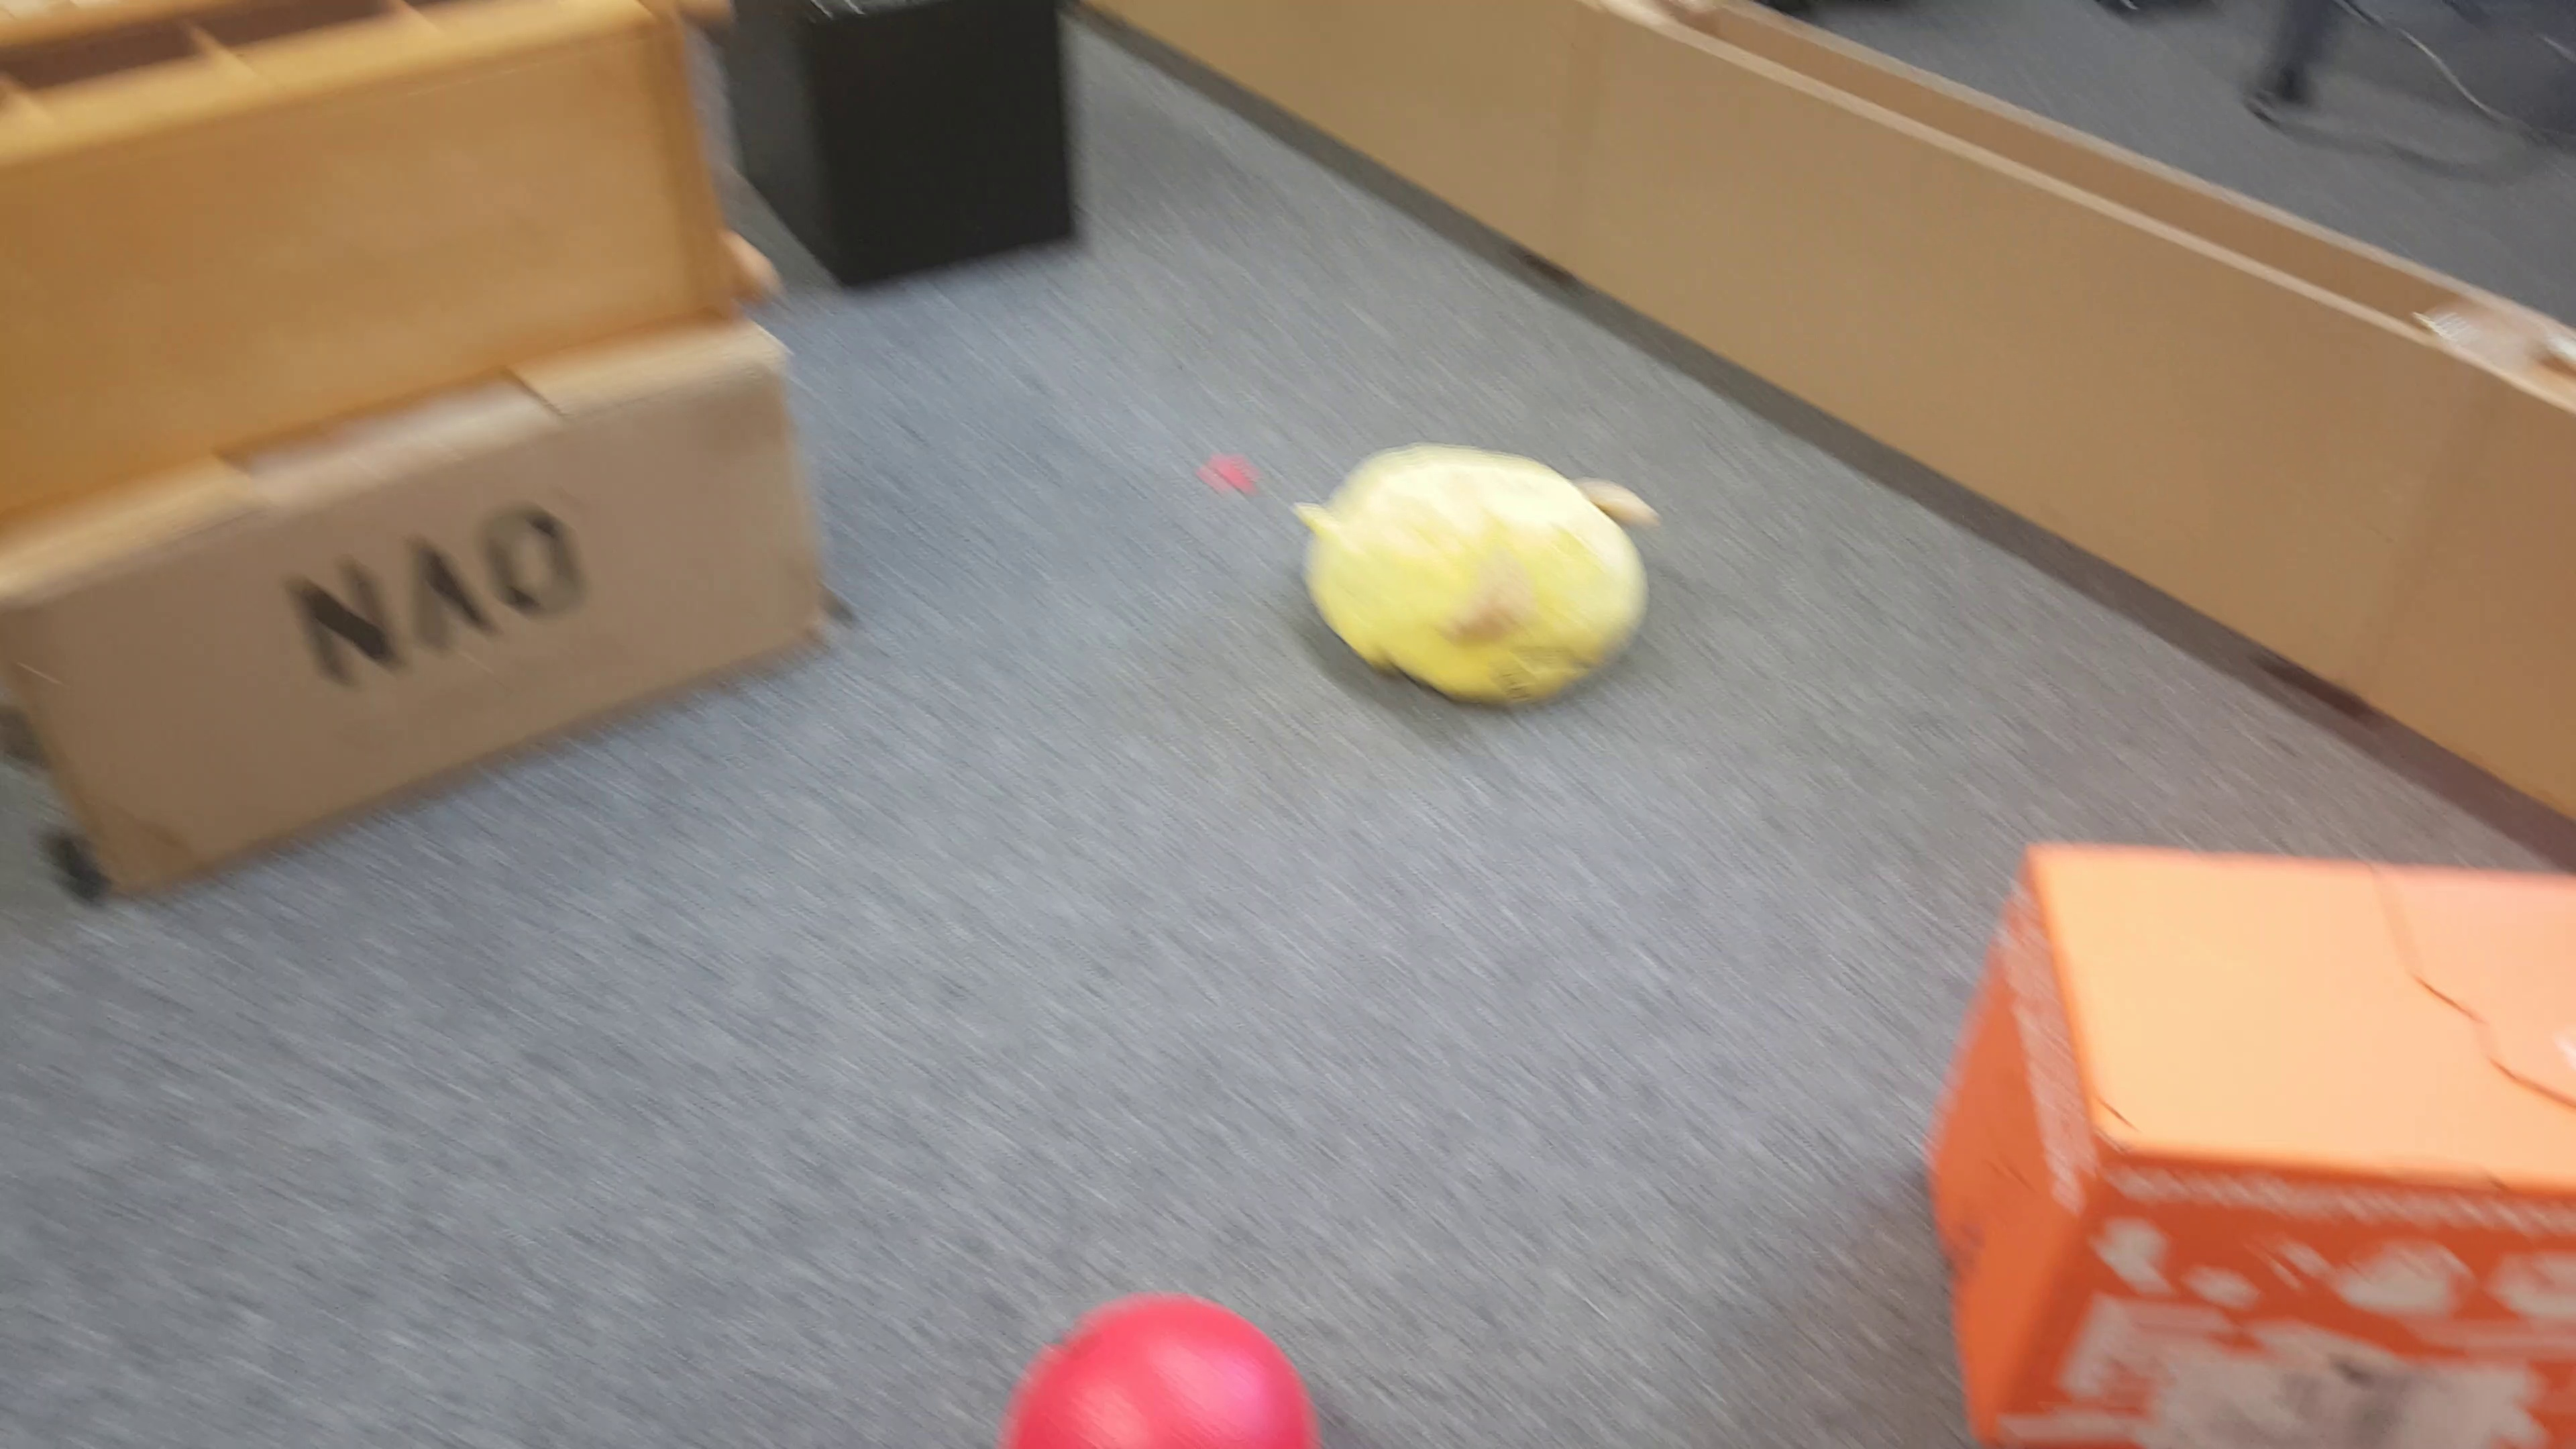grasp: (1295, 441, 1654, 717)
kick: (987, 1297, 1325, 1449)
push: (1921, 837, 2576, 1428), (752, 2, 1085, 297)
